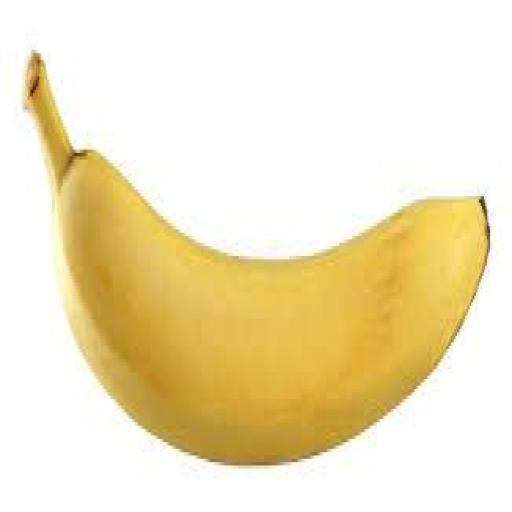banana: (26, 54, 488, 462)
